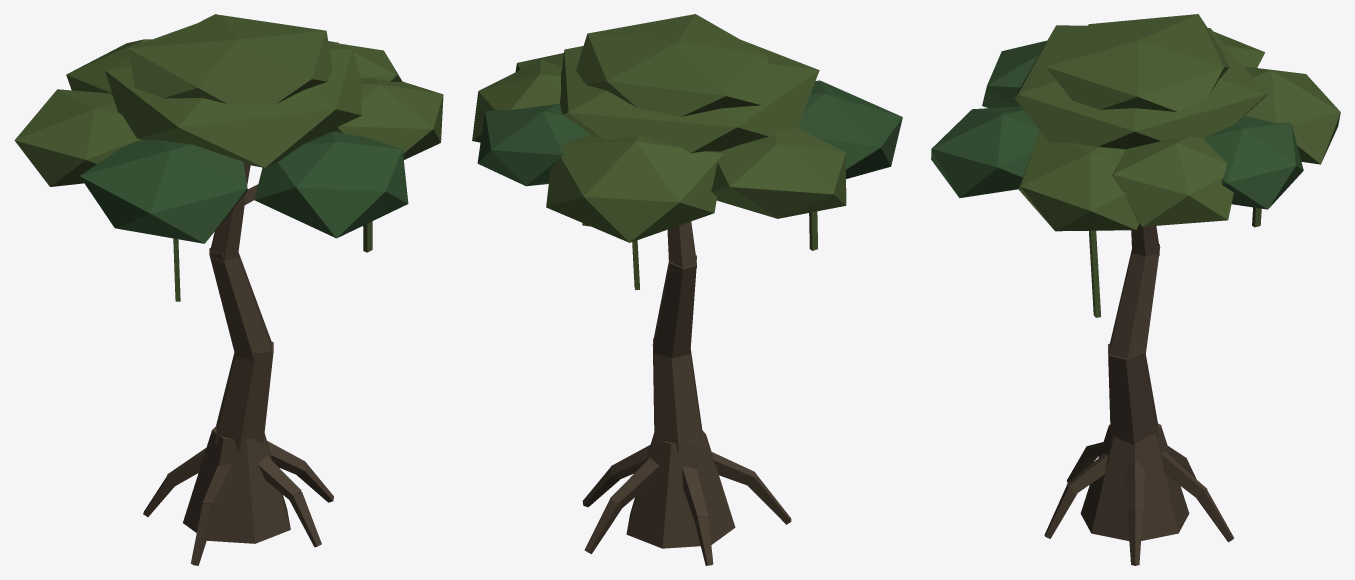
File: tree_swamp.glb
3 renders of one model, left to right at view 1: azimuth 30°, elevation 25°; view 2: azimuth 150°, elevation 25°; view 3: azimuth 270°, elevation 25°, orthographic.
Visible parts, largest first — view 1: tree_swamp; view 2: tree_swamp; view 3: tree_swamp.
Part boxes in pixels (x1,y1,x2,y2): tree_swamp: (14, 14, 443, 565); tree_swamp: (472, 14, 902, 565); tree_swamp: (931, 14, 1340, 565).
Size of what is drawn, in the model's own units: 7.04 by 8.76 by 6.75.
2 materials, 2 textured.
